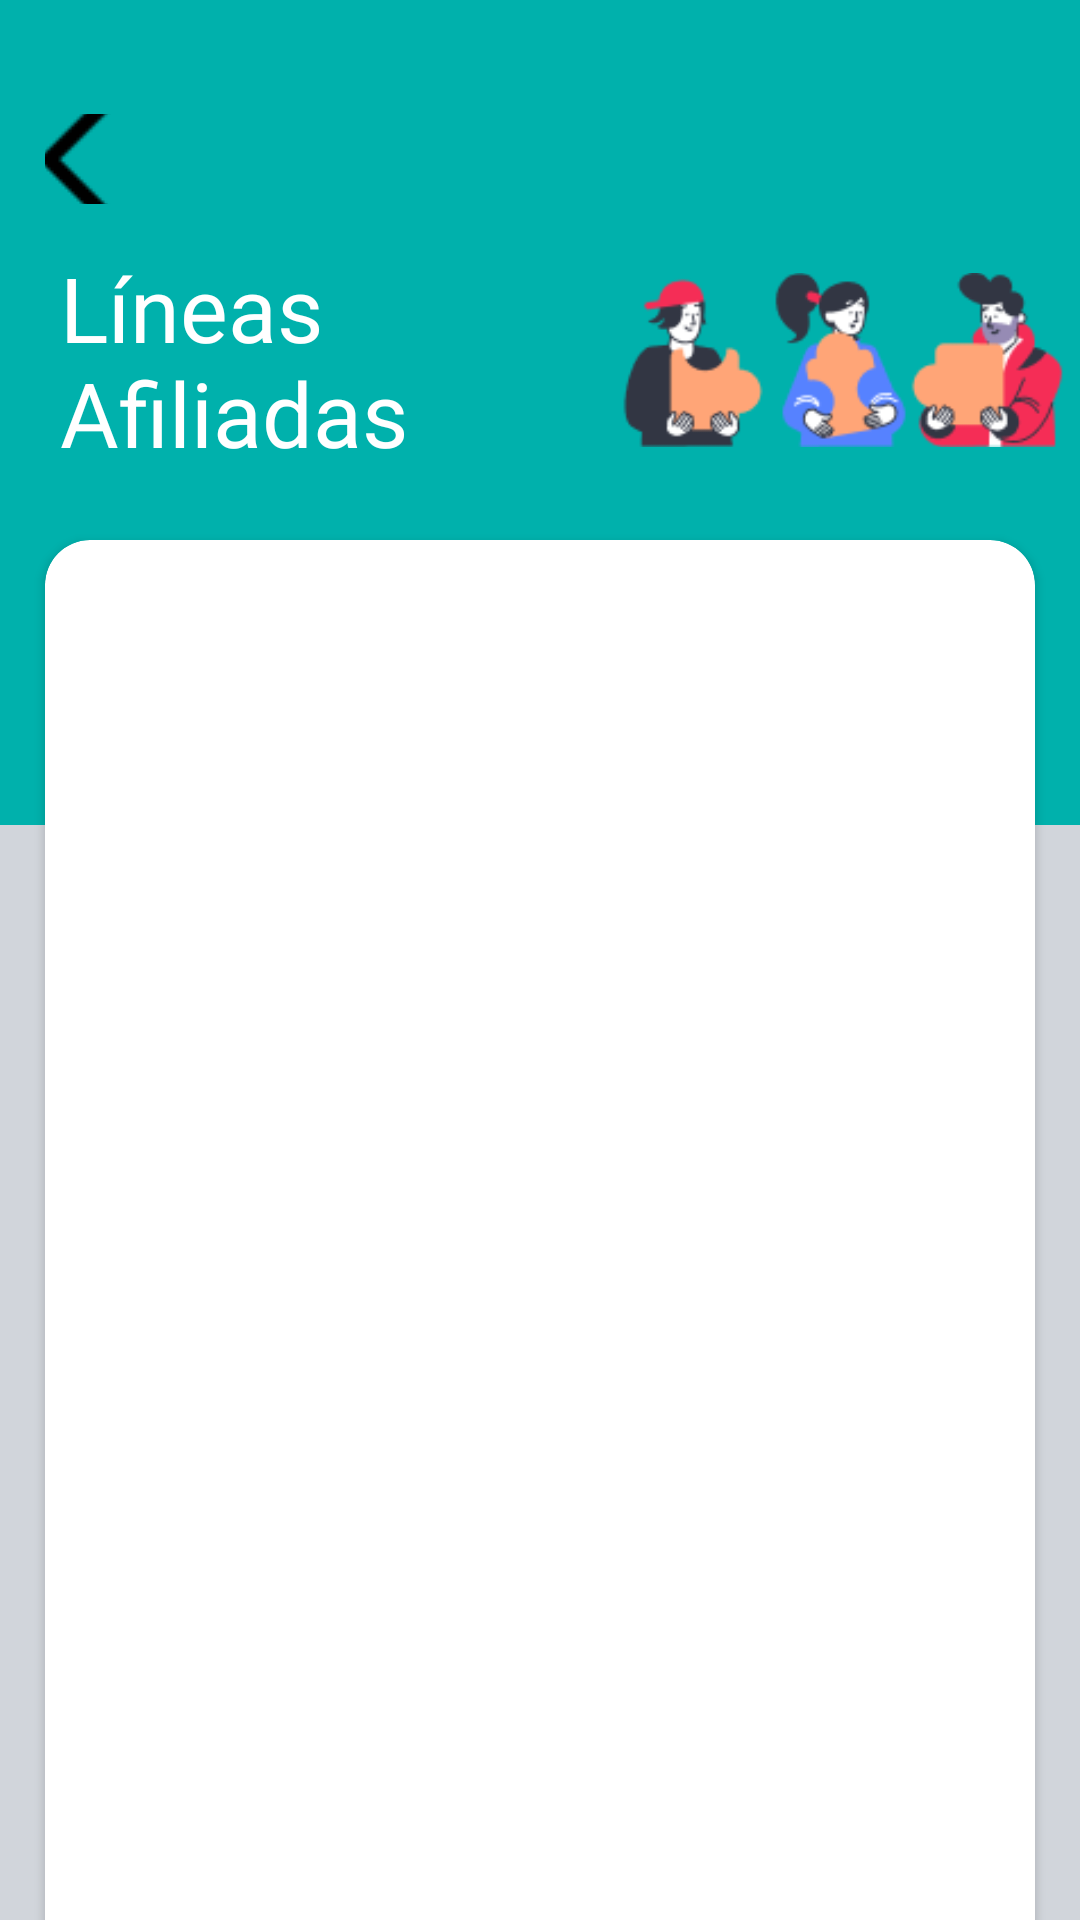

Icons on this 1080px×1920px Android screen, each with its box as [x1, y1, x2, y2]:
arrow: [45, 114, 108, 204]
